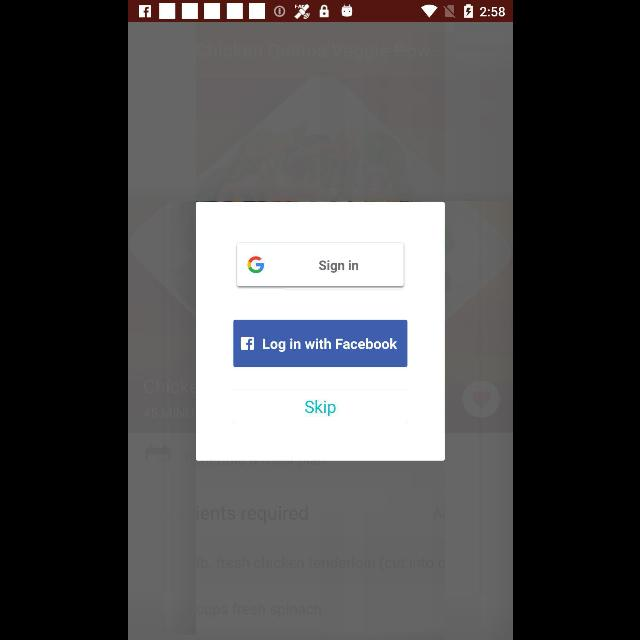panel: (196, 202, 444, 460)
text: (304, 400, 336, 416)
textbutton: (233, 320, 407, 368), (236, 244, 404, 286)
uppertaskbar: (128, 1, 512, 23)
